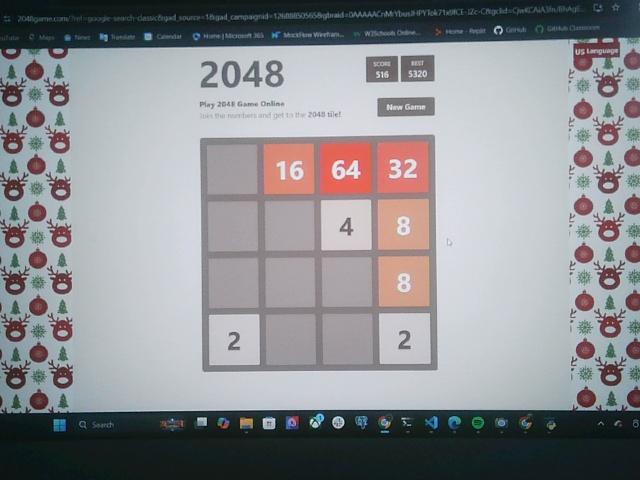board: (201, 138, 438, 372)
tile: (321, 199, 373, 252), (379, 314, 432, 366), (208, 314, 260, 366), (378, 199, 429, 251), (378, 256, 429, 307), (321, 143, 371, 195), (378, 141, 428, 193), (265, 143, 316, 193)
